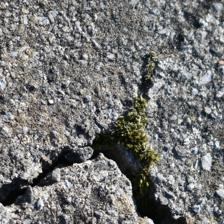Crack: (2, 63, 188, 160)
